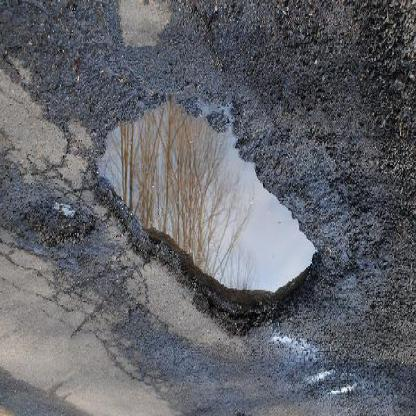pothole: (90, 96, 323, 344), (15, 199, 96, 255)
